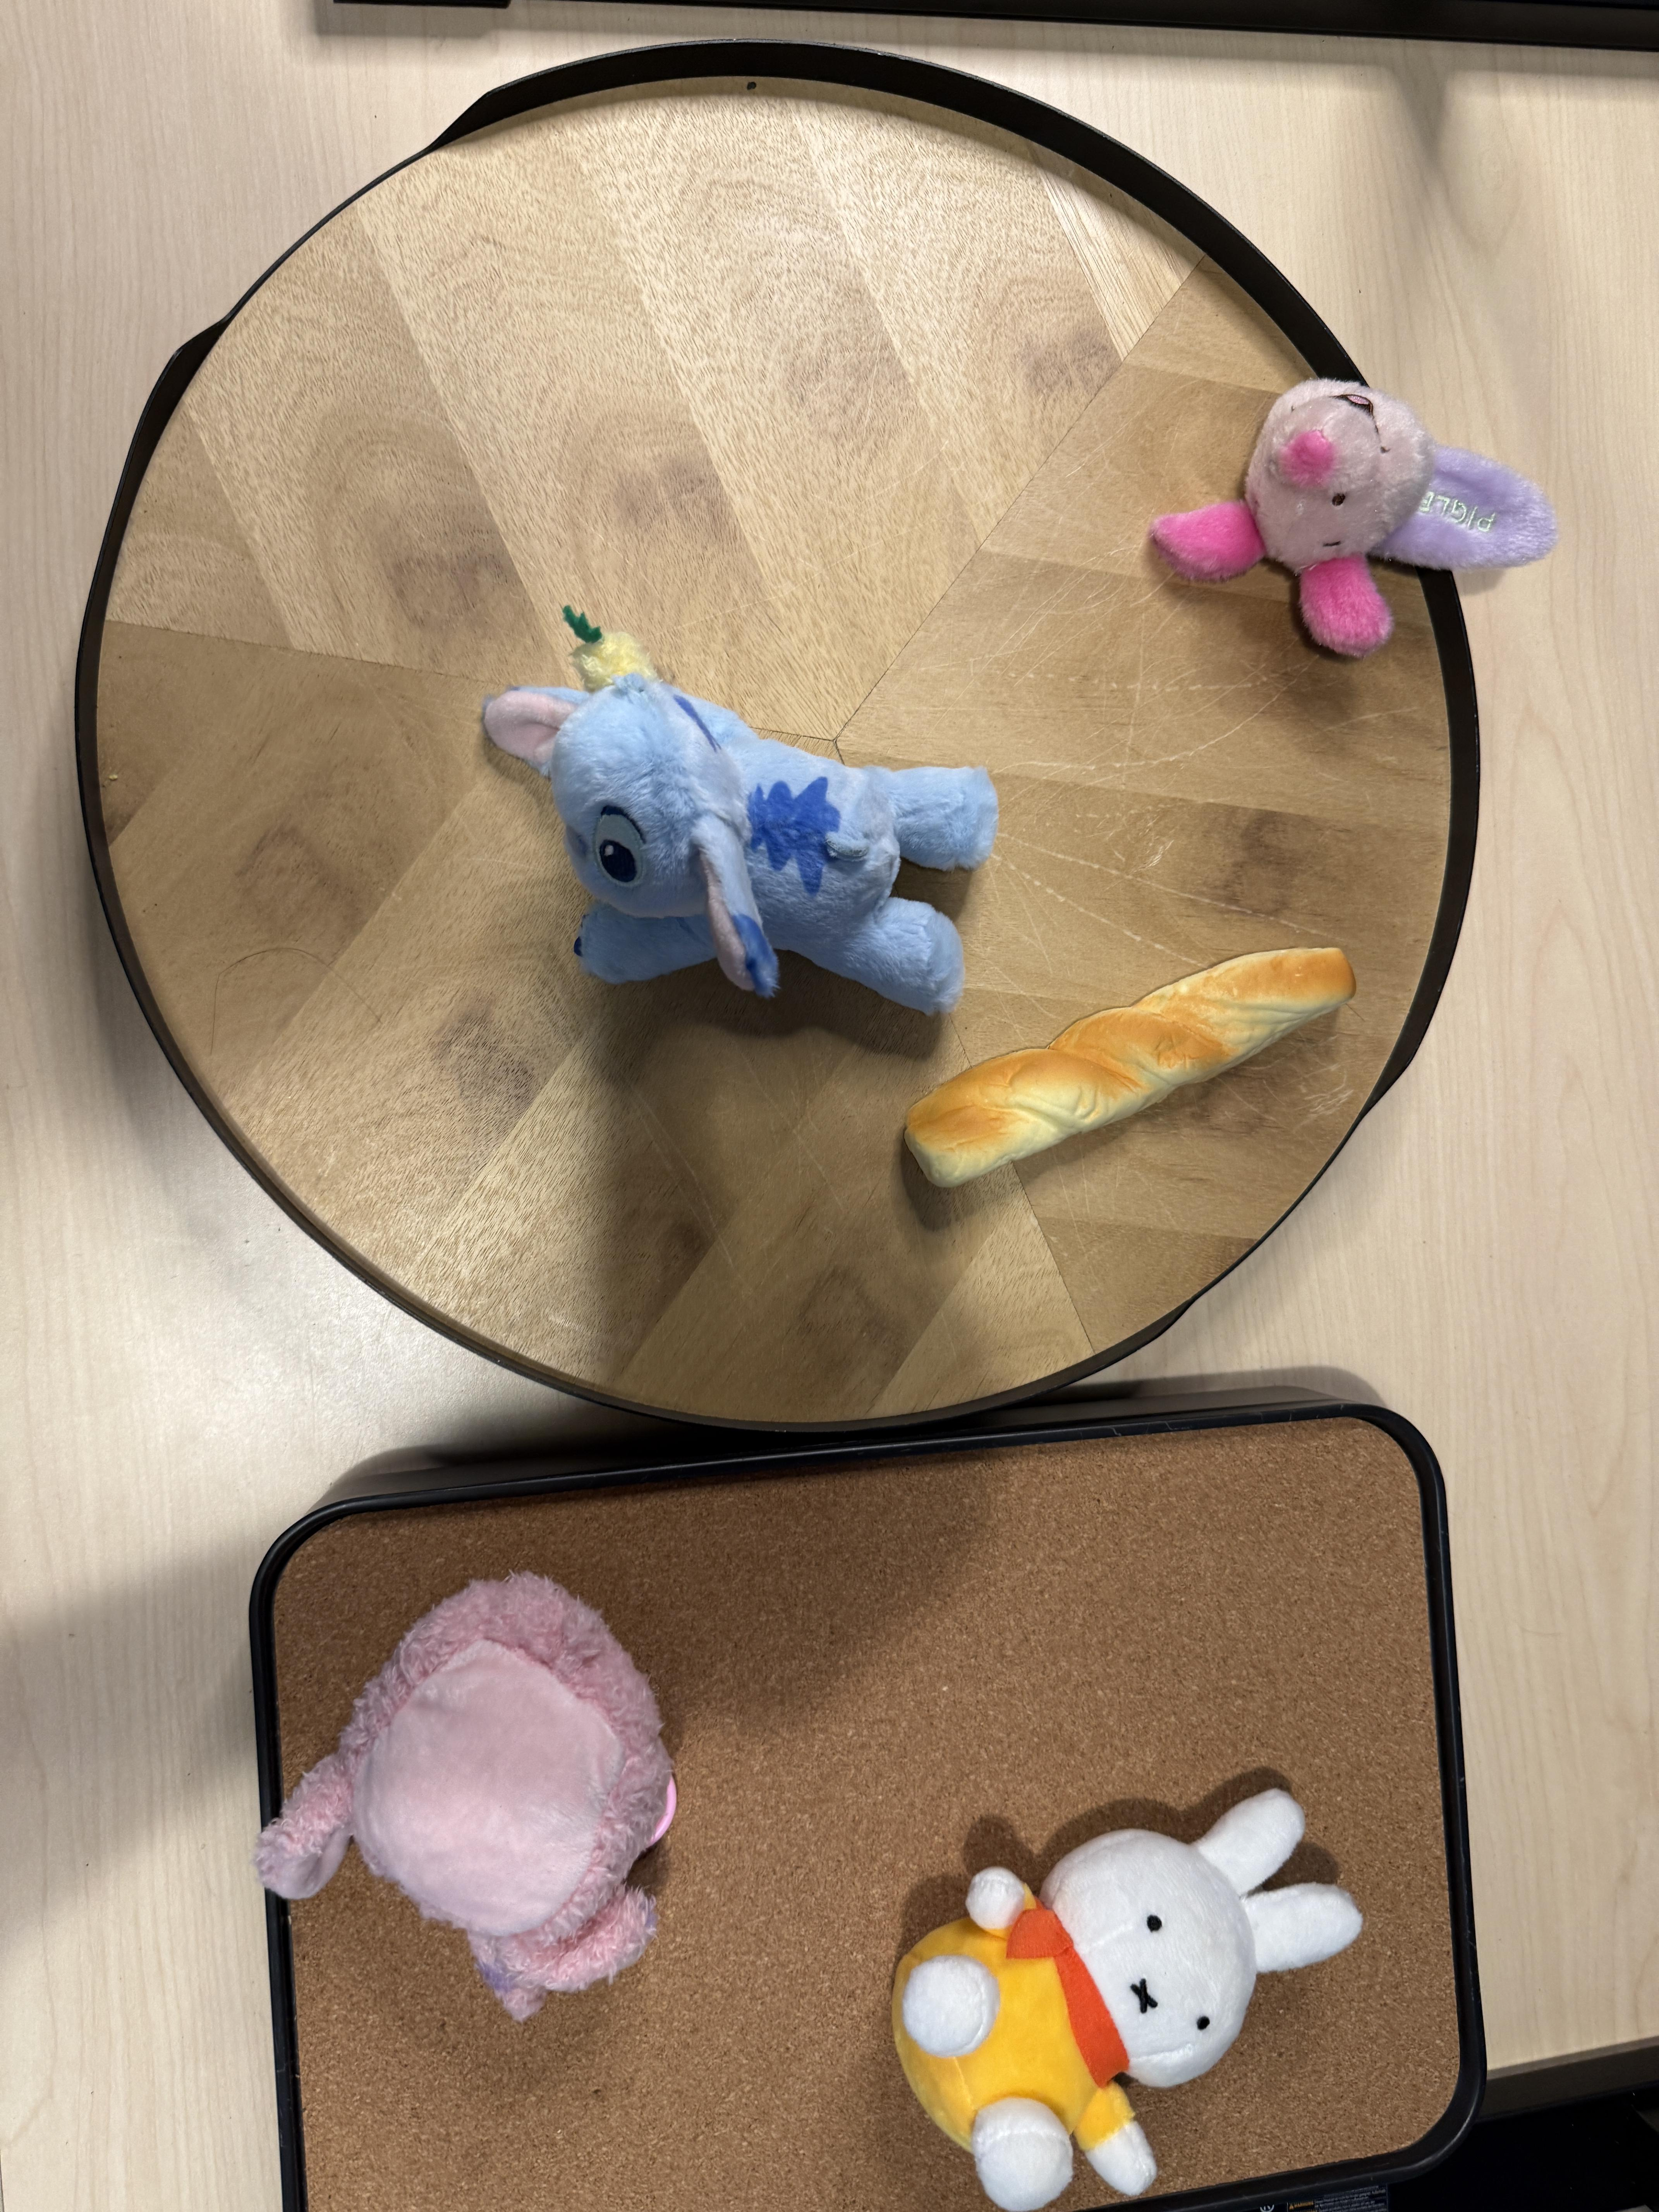bread: (906, 941, 1356, 1200)
doll: (476, 608, 1000, 1019), (884, 1782, 1363, 2210), (272, 1576, 683, 2024), (1150, 368, 1565, 650)
